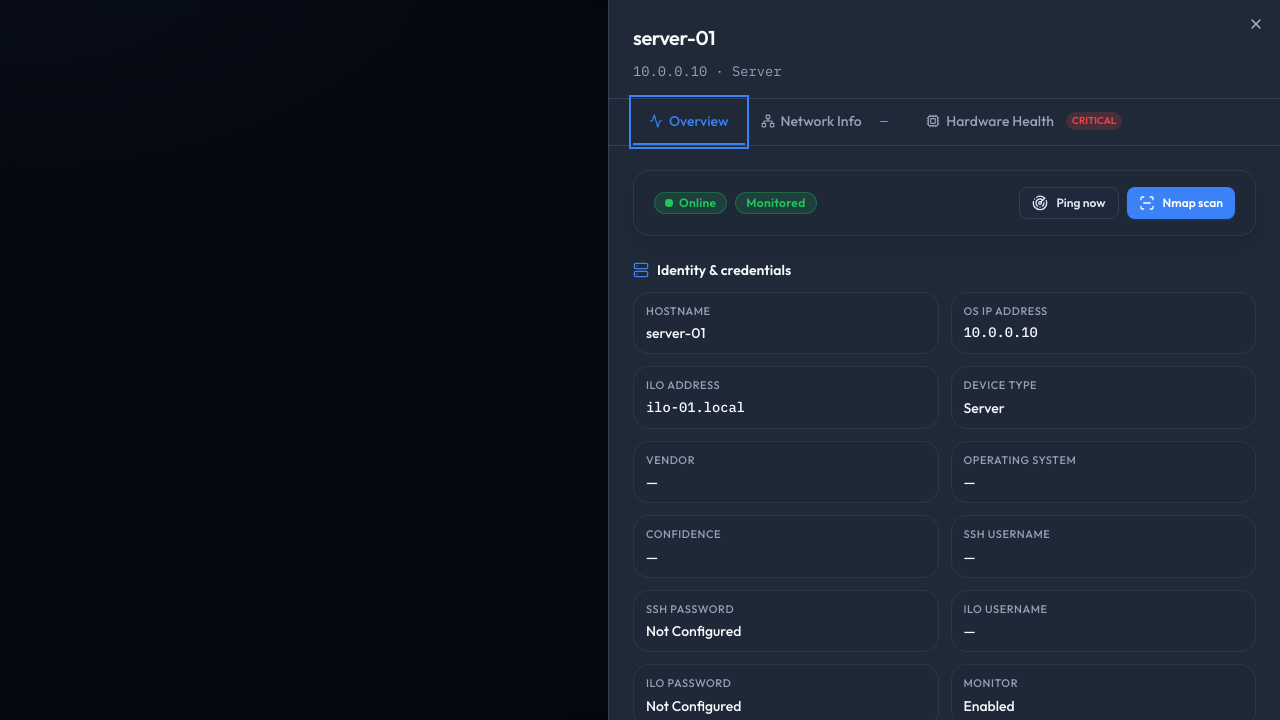
DeviceDrawer - HPE iLO Hardware & Freshness UI › 7. Critical + Fresh: keeps CRITICAL hardware health distinct from FRESH freshness
Click the button "Hardware Health CRITICAL": (1024, 122) [910,99,1138,145]
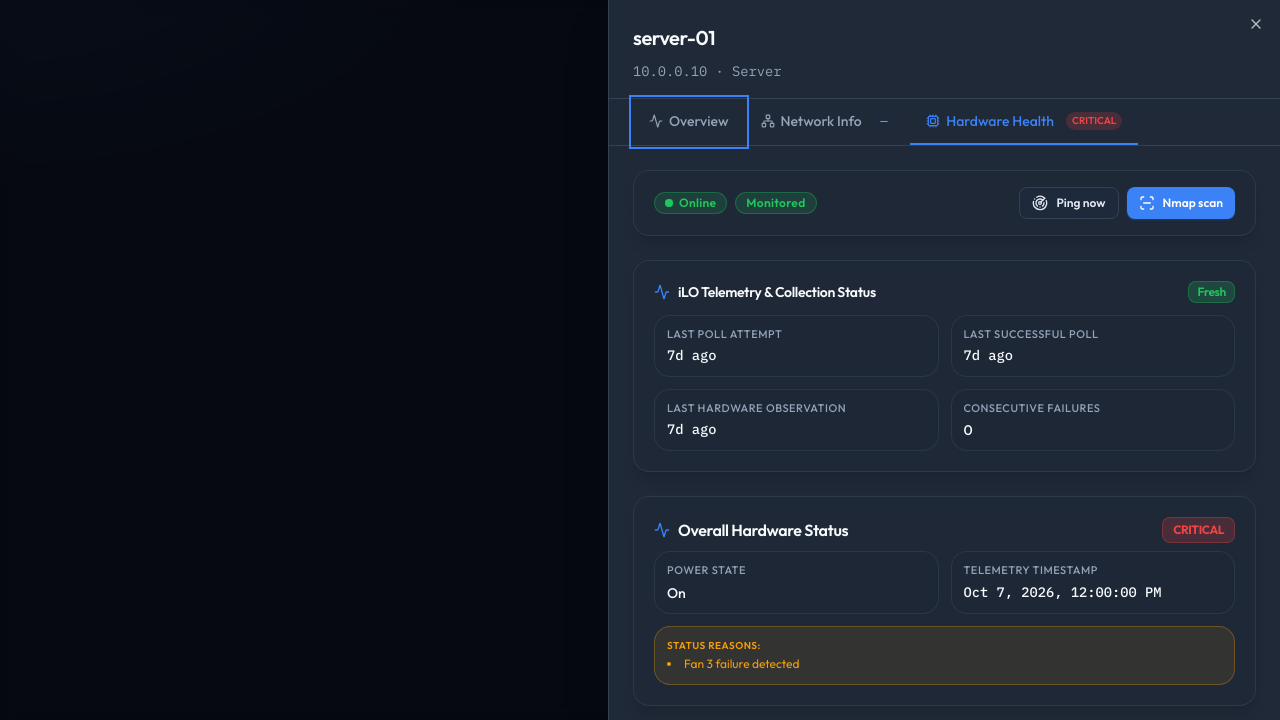
Expected: the 1st text "CRITICAL" is shown, [1066,112,1122,130]
Now the text "Fresh" is shown, box [1188,281,1235,303]
Now the list item "Fan 3 failure detected" is shown, box [684,656,800,671]
